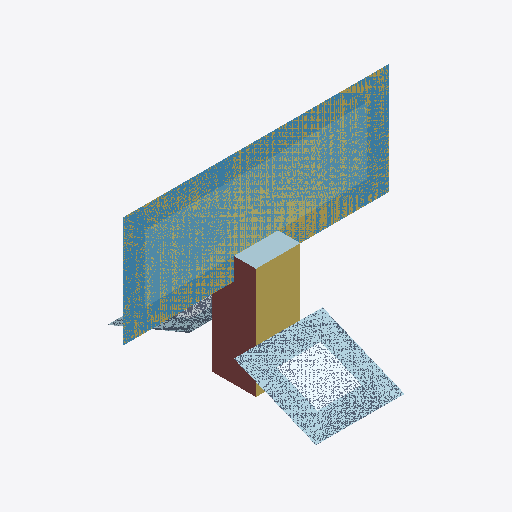
A Minecraft block model of 4 cuboids, rendered isometrically (azimuth 45°, elevation 35.3°) with the resource pack's own textures.
Parts seen in each view (by area): element 4, element 3, element 1, element 2.
Boxes of the visible parts, box(x1,y1,x2,y2) form: element 4: box(123, 64, 388, 344); element 3: box(234, 307, 403, 444); element 1: box(212, 231, 299, 396); element 2: box(108, 295, 211, 332).
Bounding box in the file's own units: 12 × 9 × 9.39.